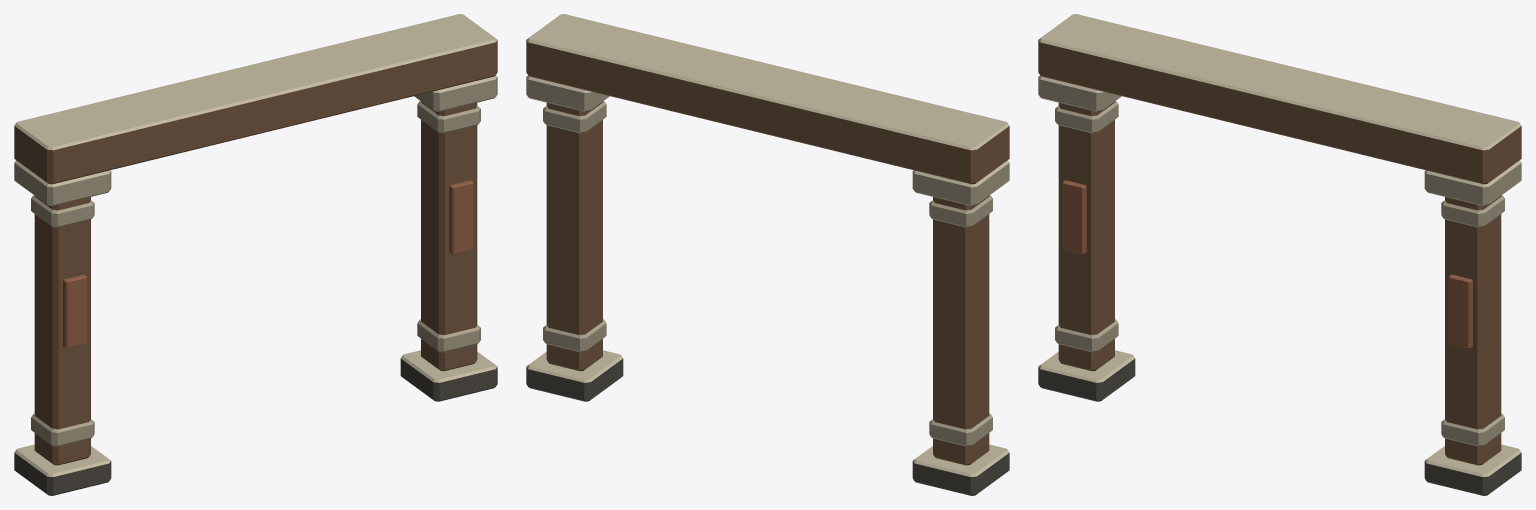
Rendered from arch-free.glb.
3 renders of one model, left to right at view 1: azimuth 30°, elevation 25°; view 2: azimuth 150°, elevation 25°; view 3: azimuth 330°, elevation 25°, orthographic.
Visible parts, largest first — view 1: arch-free__body; view 2: arch-free__body; view 3: arch-free__body.
Boxes of the visible parts, x1,y1,x2,y2 form: arch-free__body: (14, 14, 497, 495); arch-free__body: (526, 14, 1009, 495); arch-free__body: (1038, 14, 1521, 495).
Size of the model in its own units: 2.8 by 2.07 by 0.4.
